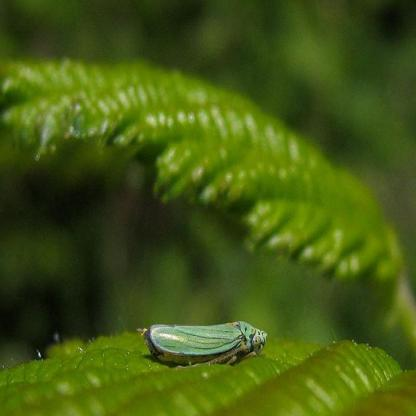green-leafhopper: (145, 320, 267, 367)
